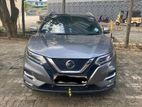car: (23, 12, 117, 94)
